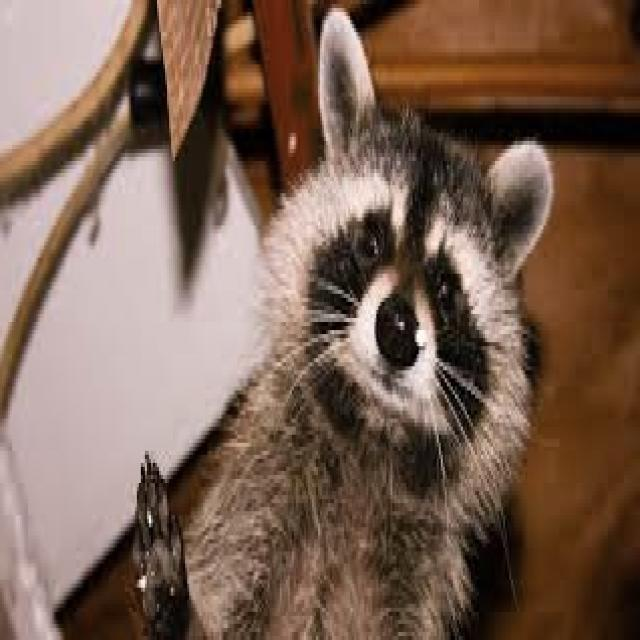raccoon: (135, 8, 551, 636)
